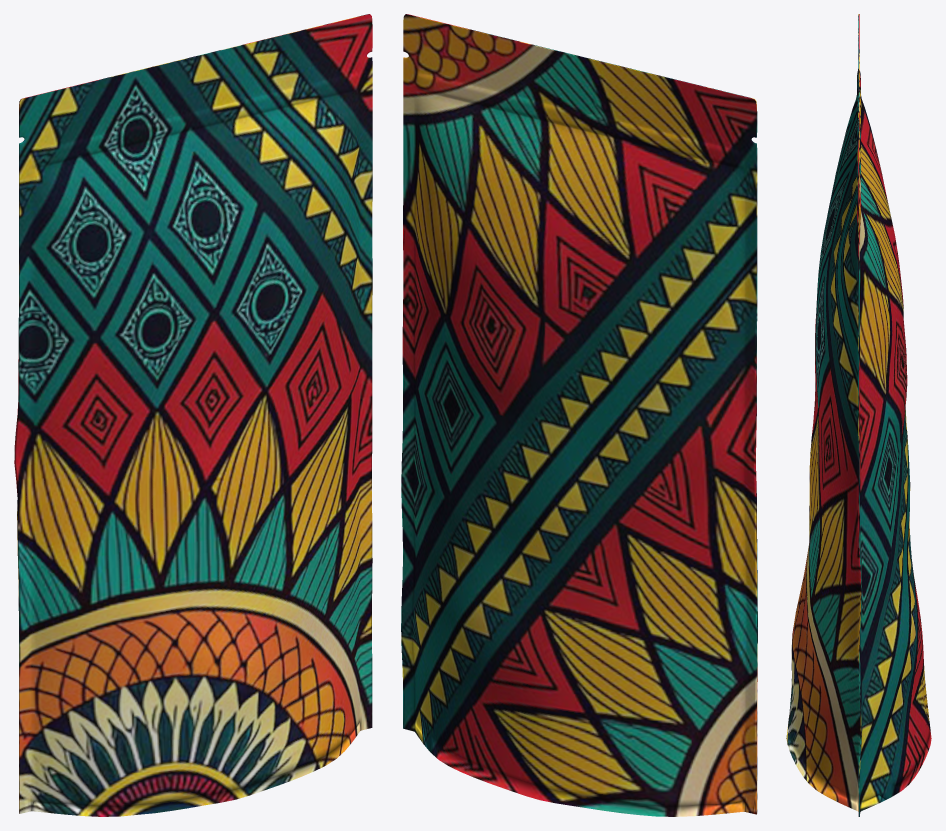
The model's file is plasticBag4.glb.
3 renders of one model, left to right at view 1: azimuth 30°, elevation 25°; view 2: azimuth 150°, elevation 25°; view 3: azimuth 270°, elevation 25°, orthographic. The views are drawn at different scales.
Parts seen in each view (by area): view 1: ATR001; view 2: ATR001; view 3: ATR001.
Boxes of the visible parts, x1,y1,x2,y2 form: ATR001: [14, 14, 372, 816]; ATR001: [401, 14, 757, 816]; ATR001: [786, 14, 931, 816].
Size of the model in its own units: 0.1615 by 0.3102 by 0.063.
Materials: 1 (1 with a texture image).
